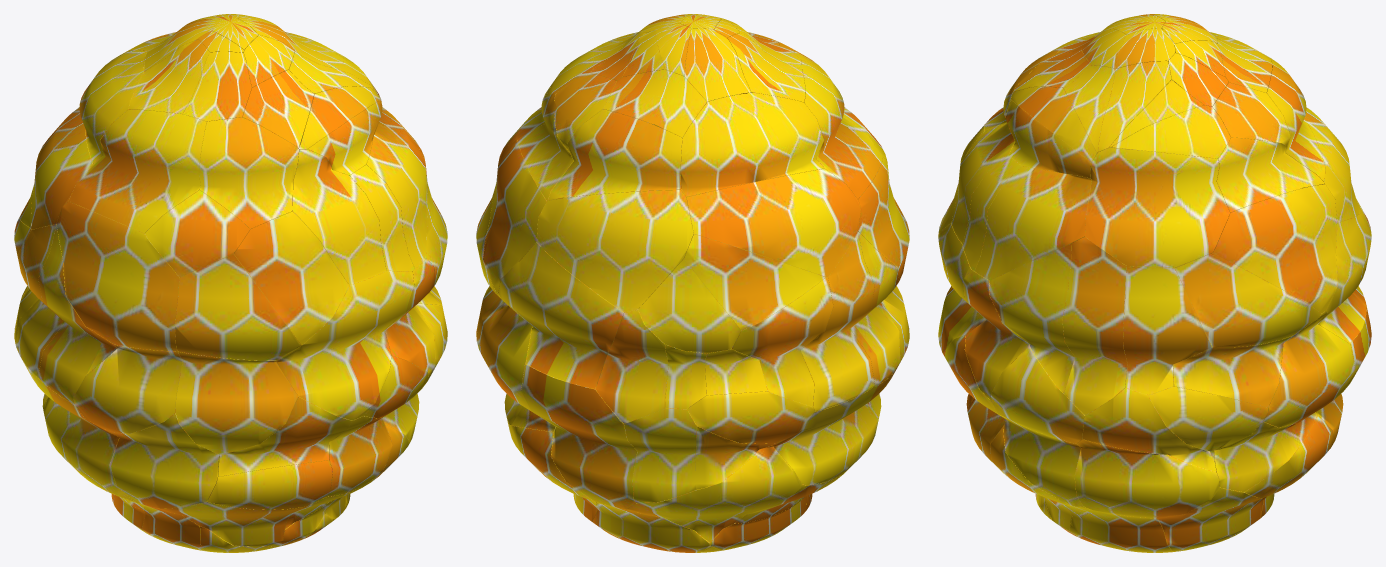
Rendered from hive_broken.fbx.
3 renders of one model, left to right at view 1: azimuth 30°, elevation 25°; view 2: azimuth 150°, elevation 25°; view 3: azimuth 270°, elevation 25°, orthographic.
Visible parts, largest first — view 1: Sphere_cell.007, Sphere_cell.067, Sphere_cell.092, Sphere_cell.019, Sphere_cell.015, Sphere_cell.017, Sphere_cell.028, Sphere_cell.038, Sphere_cell.091, Sphere_cell.018, Sphere_cell.016, Sphere_cell.077 (+34 smaller); view 2: Sphere_cell.093, Sphere_cell.061, Sphere_cell.072, Sphere_cell.064, Sphere_cell.042, Sphere_cell.030, Sphere_cell.097, Sphere_cell.023, Sphere_cell.087, Sphere_cell.063, Sphere_cell.013, Sphere_cell.070 (+30 smaller); view 3: Sphere_cell.085, Sphere_cell.074, Sphere_cell.071, Sphere_cell.089, Sphere_cell.004, Sphere_cell.088, Sphere_cell.014, Sphere_cell.094, Sphere_cell.050, Sphere_cell.011, Sphere_cell.049, Sphere_cell.086 (+35 smaller).
Part boxes in pixels (x1=…): Sphere_cell.007: x1=56, y1=201, x2=179, y2=351; Sphere_cell.067: x1=69, y1=109, x2=206, y2=233; Sphere_cell.092: x1=276, y1=270, x2=414, y2=420; Sphere_cell.019: x1=175, y1=351, x2=298, y2=454; Sphere_cell.015: x1=175, y1=254, x2=301, y2=360; Sphere_cell.017: x1=234, y1=211, x2=349, y2=344; Sphere_cell.028: x1=199, y1=117, x2=298, y2=229; Sphere_cell.038: x1=292, y1=149, x2=386, y2=284; Sphere_cell.091: x1=108, y1=413, x2=219, y2=508; Sphere_cell.018: x1=73, y1=344, x2=182, y2=433; Sphere_cell.016: x1=38, y1=225, x2=117, y2=404; Sphere_cell.077: x1=145, y1=190, x2=249, y2=277; Sphere_cell.093: x1=536, y1=190, x2=693, y2=312; Sphere_cell.061: x1=686, y1=168, x2=860, y2=276; Sphere_cell.072: x1=680, y1=92, x2=824, y2=197; Sphere_cell.064: x1=498, y1=242, x2=623, y2=388; Sphere_cell.042: x1=521, y1=364, x2=637, y2=509; Sphere_cell.030: x1=548, y1=109, x2=682, y2=200; Sphere_cell.097: x1=800, y1=232, x2=874, y2=411; Sphere_cell.023: x1=683, y1=234, x2=825, y2=330; Sphere_cell.087: x1=625, y1=445, x2=801, y2=542; Sphere_cell.063: x1=732, y1=277, x2=833, y2=406; Sphere_cell.013: x1=773, y1=373, x2=893, y2=485; Sphere_cell.070: x1=638, y1=259, x2=740, y2=353; Sphere_cell.085: x1=1085, y1=147, x2=1229, y2=267; Sphere_cell.074: x1=1211, y1=184, x2=1337, y2=313; Sphere_cell.071: x1=1062, y1=237, x2=1133, y2=414; Sphere_cell.089: x1=974, y1=166, x2=1091, y2=280; Sphere_cell.004: x1=1074, y1=439, x2=1219, y2=518; Sphere_cell.088: x1=1175, y1=253, x2=1321, y2=347; Sphere_cell.014: x1=1123, y1=266, x2=1211, y2=394; Sphere_cell.094: x1=989, y1=243, x2=1075, y2=393; Sphere_cell.050: x1=1263, y1=311, x2=1354, y2=427; Sphere_cell.011: x1=1163, y1=267, x2=1291, y2=407; Sphere_cell.049: x1=990, y1=346, x2=1085, y2=443; Sphere_cell.086: x1=1216, y1=137, x2=1324, y2=212.
Size of the model in its own units: 339 by 445 by 339.
